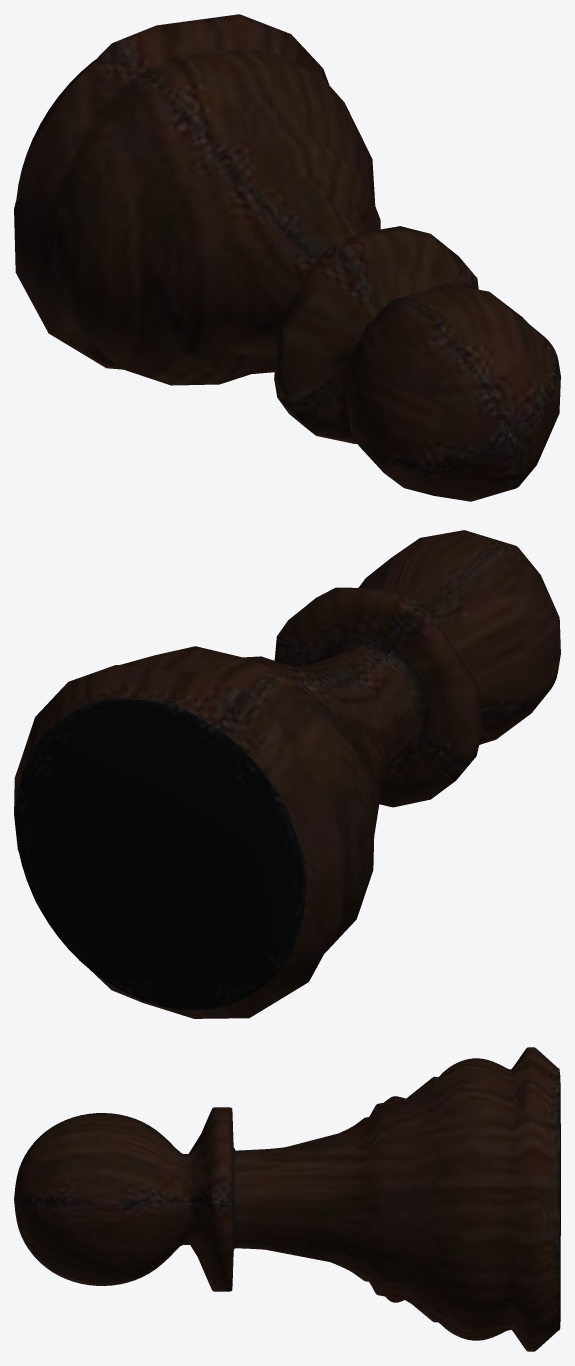
Rendered from pawn4.obj.
3 renders of one model, top to bottom at view 1: azimuth 30°, elevation 25°; view 2: azimuth 150°, elevation 25°; view 3: azimuth 270°, elevation 25°, orthographic. The views are drawn at different scales.
Visible parts, largest first — view 1: mmGroup0; view 2: mmGroup0; view 3: mmGroup0.
Boxes of the visible parts, left/top/right/bottom form: mmGroup0: left=14, top=14, right=560, bottom=501; mmGroup0: left=14, top=530, right=560, bottom=1018; mmGroup0: left=14, top=1047, right=560, bottom=1351.
Size of the model in its own units: 4.46 by 4.46 by 8.17.
